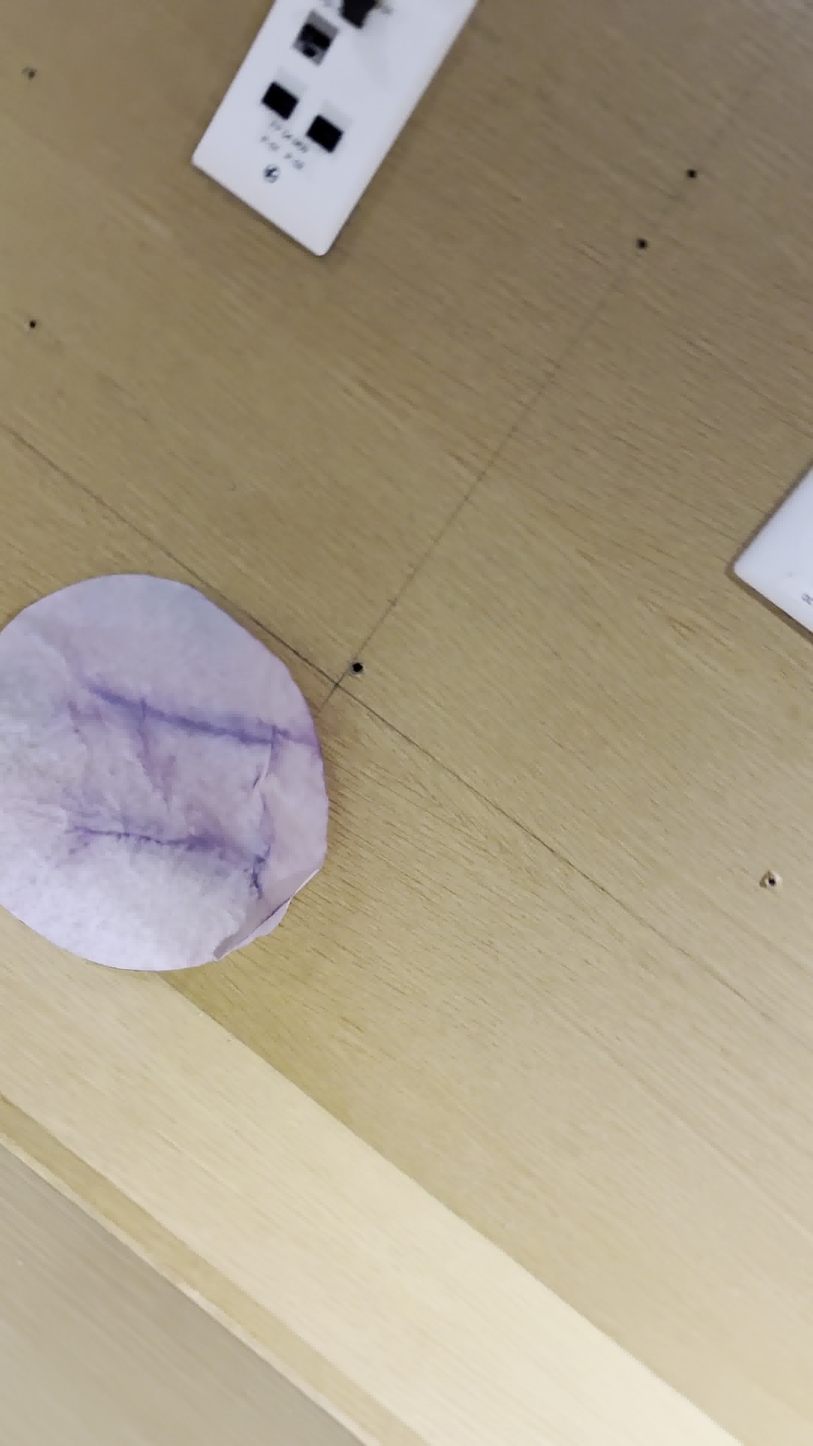Target: (0, 572, 329, 972)
